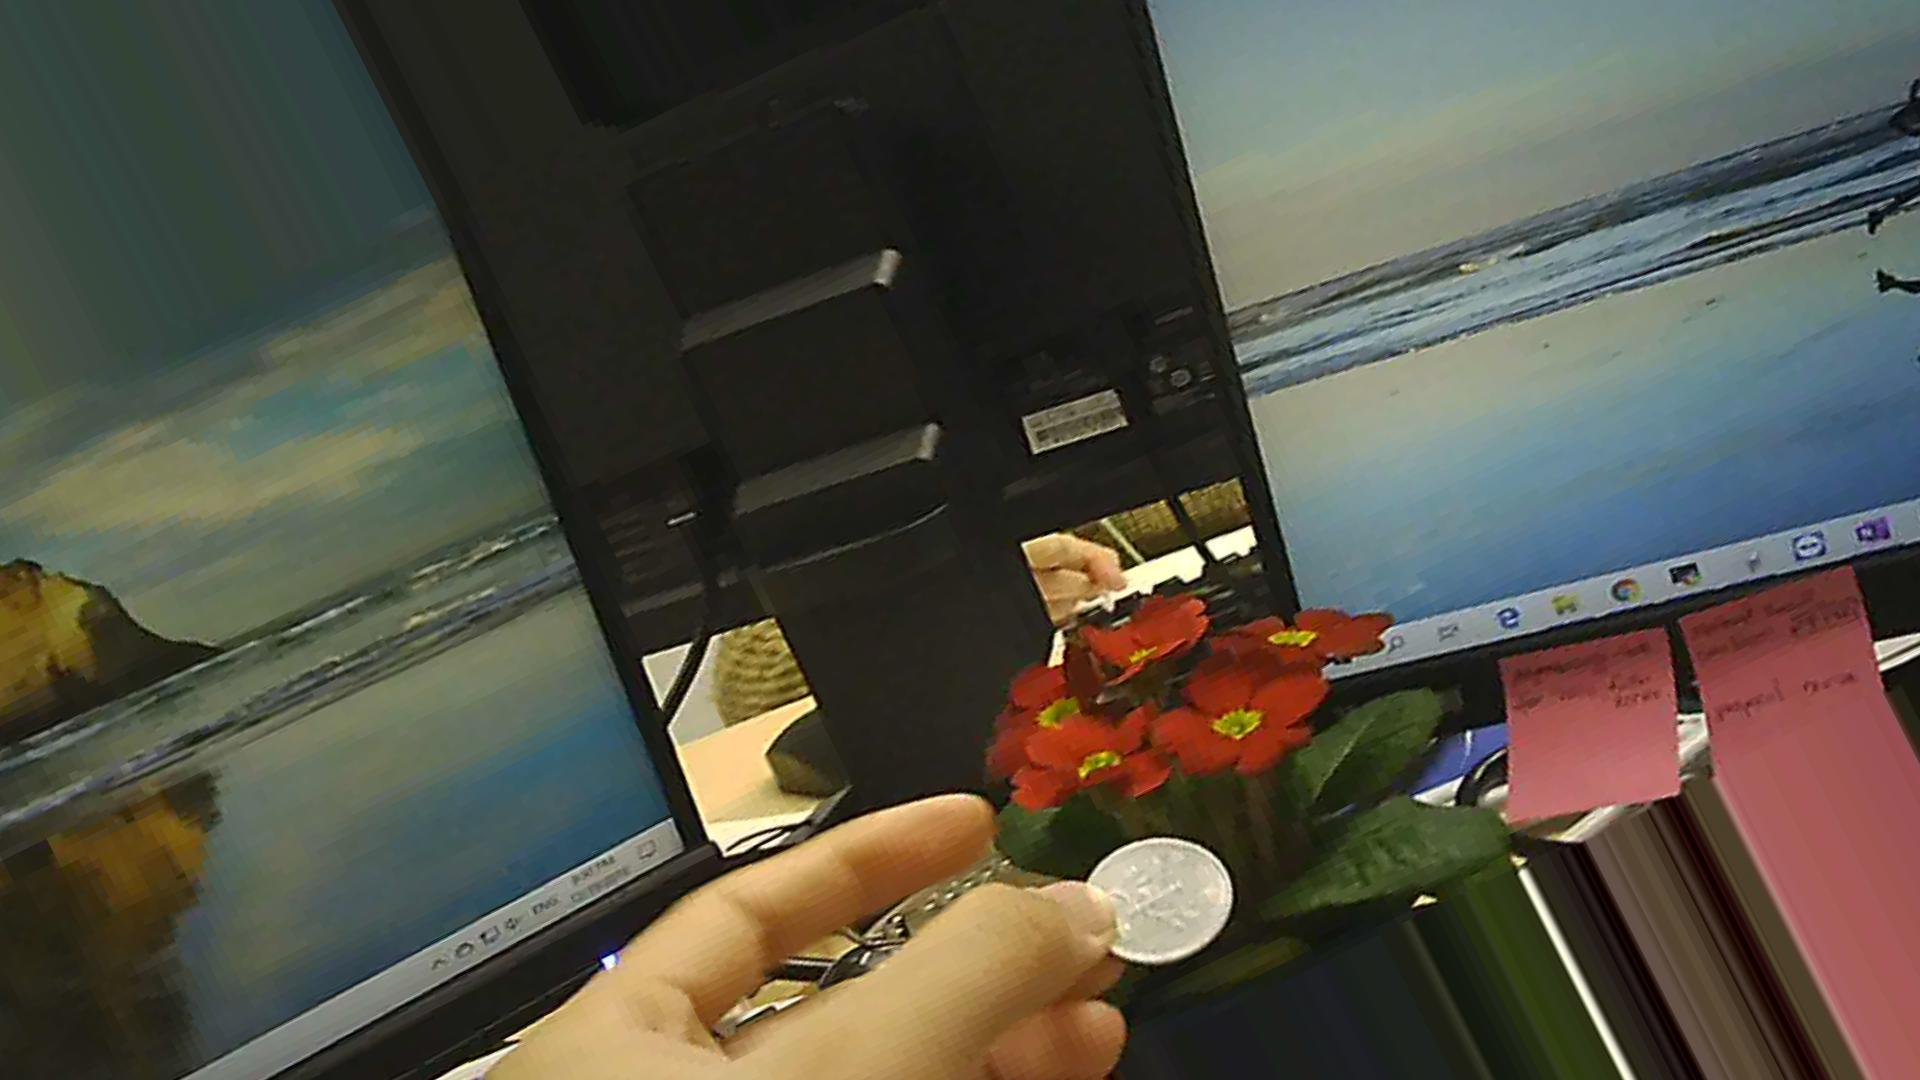1 Yen: (1073, 829, 1250, 968)
